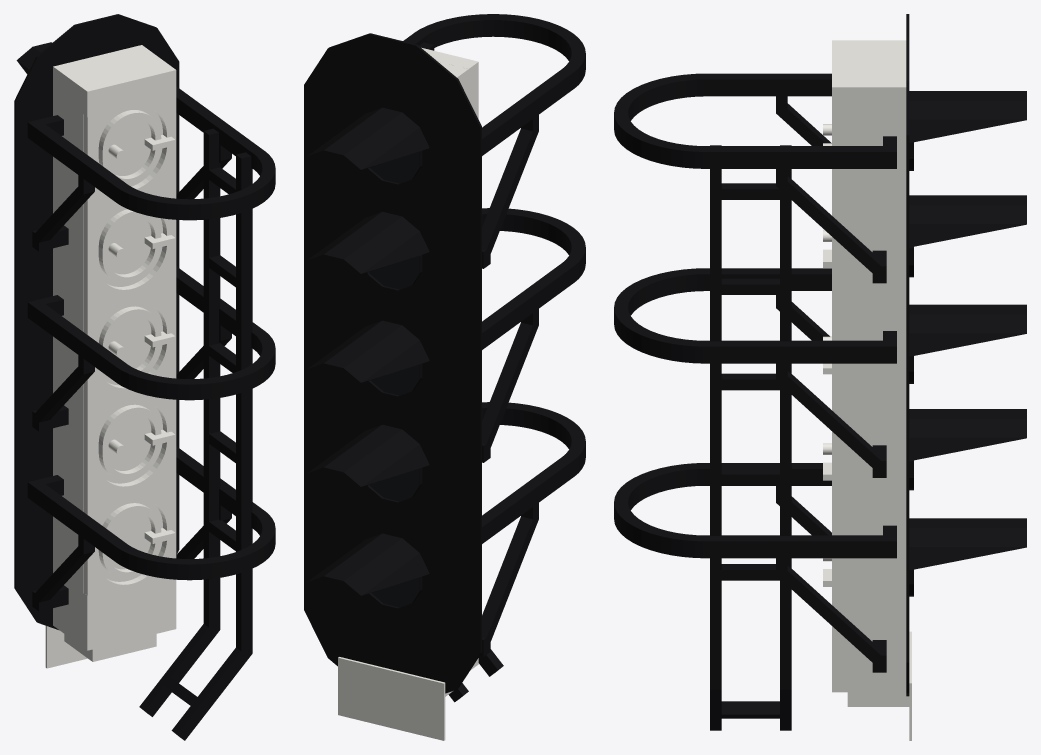
Rendered from 5chamber_left.obj.
3 renders of one model, left to right at view 1: azimuth 30°, elevation 25°; view 2: azimuth 150°, elevation 25°; view 3: azimuth 270°, elevation 25°, orthographic. The views are drawn at different scales.
Visible parts, largest first — view 1: signal_head, railing, signal_plate, ladder_top, ladder_middle, signal_id; view 2: signal_plate, railing, signal_id, signal_head, orange_top, orange_bottom, green, red, white, ladder_middle; view 3: railing, signal_head, signal_plate, ladder_top, ladder_middle.
Part boxes in pixels (x1,y1,x2,y2): signal_head: (53, 45, 176, 661); railing: (27, 86, 275, 611); signal_plate: (14, 14, 179, 629); ladder_top: (203, 128, 252, 656); ladder_middle: (139, 624, 252, 740); signal_id: (45, 626, 87, 668); signal_plate: (304, 33, 481, 693); railing: (403, 14, 585, 656); signal_id: (338, 657, 445, 740); signal_head: (421, 47, 478, 696); orange_top: (369, 255, 419, 289); orange_bottom: (369, 468, 419, 501); green: (370, 151, 419, 183); red: (370, 364, 419, 395); white: (371, 577, 419, 607); ladder_middle: (448, 649, 503, 702); railing: (614, 73, 896, 672); signal_head: (823, 40, 909, 706); signal_plate: (906, 14, 1026, 696); ladder_top: (710, 145, 791, 689); ladder_middle: (710, 689, 791, 730).
Bounding box in the file's own units: 0.61 × 2.33 × 1.23.
